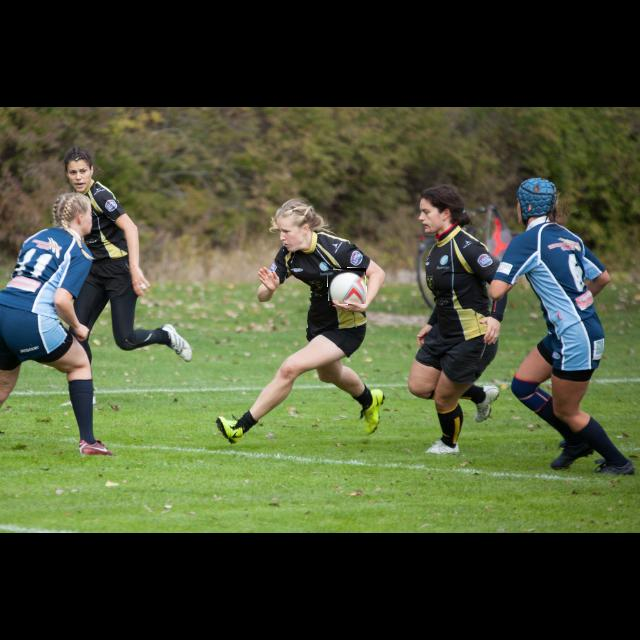Football: (328, 268, 366, 304)
